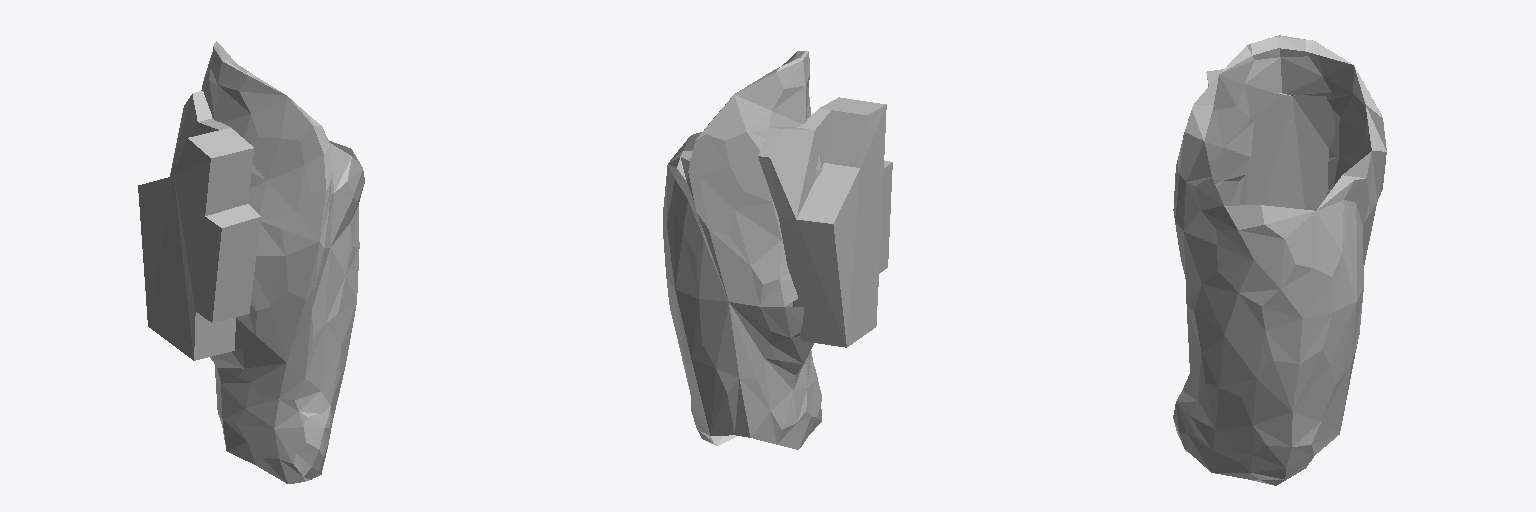
Rendered from p_uleg.obj.
The picture shows the model from 3 angles: view 1: azimuth 30°, elevation 25°; view 2: azimuth 150°, elevation 25°; view 3: azimuth 270°, elevation 25°; orthographic projection.
Parts seen in each view (by area): view 1: ct_gign.ct_gign_reference.smd.mesh_2.004_ct_gign.ct_gign_referen; view 2: ct_gign.ct_gign_reference.smd.mesh_2.004_ct_gign.ct_gign_referen; view 3: ct_gign.ct_gign_reference.smd.mesh_2.004_ct_gign.ct_gign_referen.
Part boxes in pixels (x1,y1,x2,y2): ct_gign.ct_gign_reference.smd.mesh_2.004_ct_gign.ct_gign_referen: (138, 41, 364, 483); ct_gign.ct_gign_reference.smd.mesh_2.004_ct_gign.ct_gign_referen: (663, 50, 892, 449); ct_gign.ct_gign_reference.smd.mesh_2.004_ct_gign.ct_gign_referen: (1173, 35, 1386, 485).
Bounding box in the file's own units: 10.52 × 22.01 × 10.42.